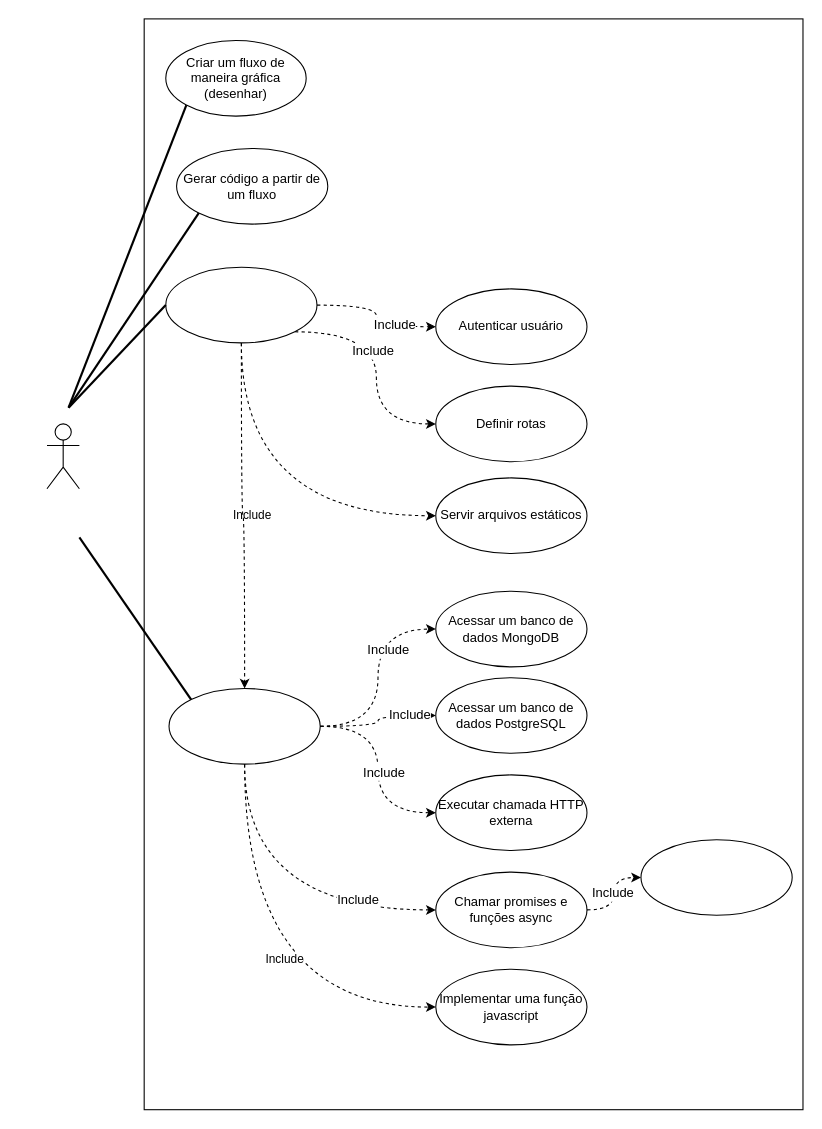
Some shapes in this 822 by 1129 pixel diagram are drawn without their labels. The shapes that lost their labels are listed below. From the top down, each one's centre as x and y in pixels, then its label:
At point (241, 304): "Modelar um web service".
At point (62, 456): "Desenvolvedor Node.JS".
At point (244, 725): "Modelar aplicação com objetos padrão".
At point (716, 877): "Esperar execução com All e Race".
